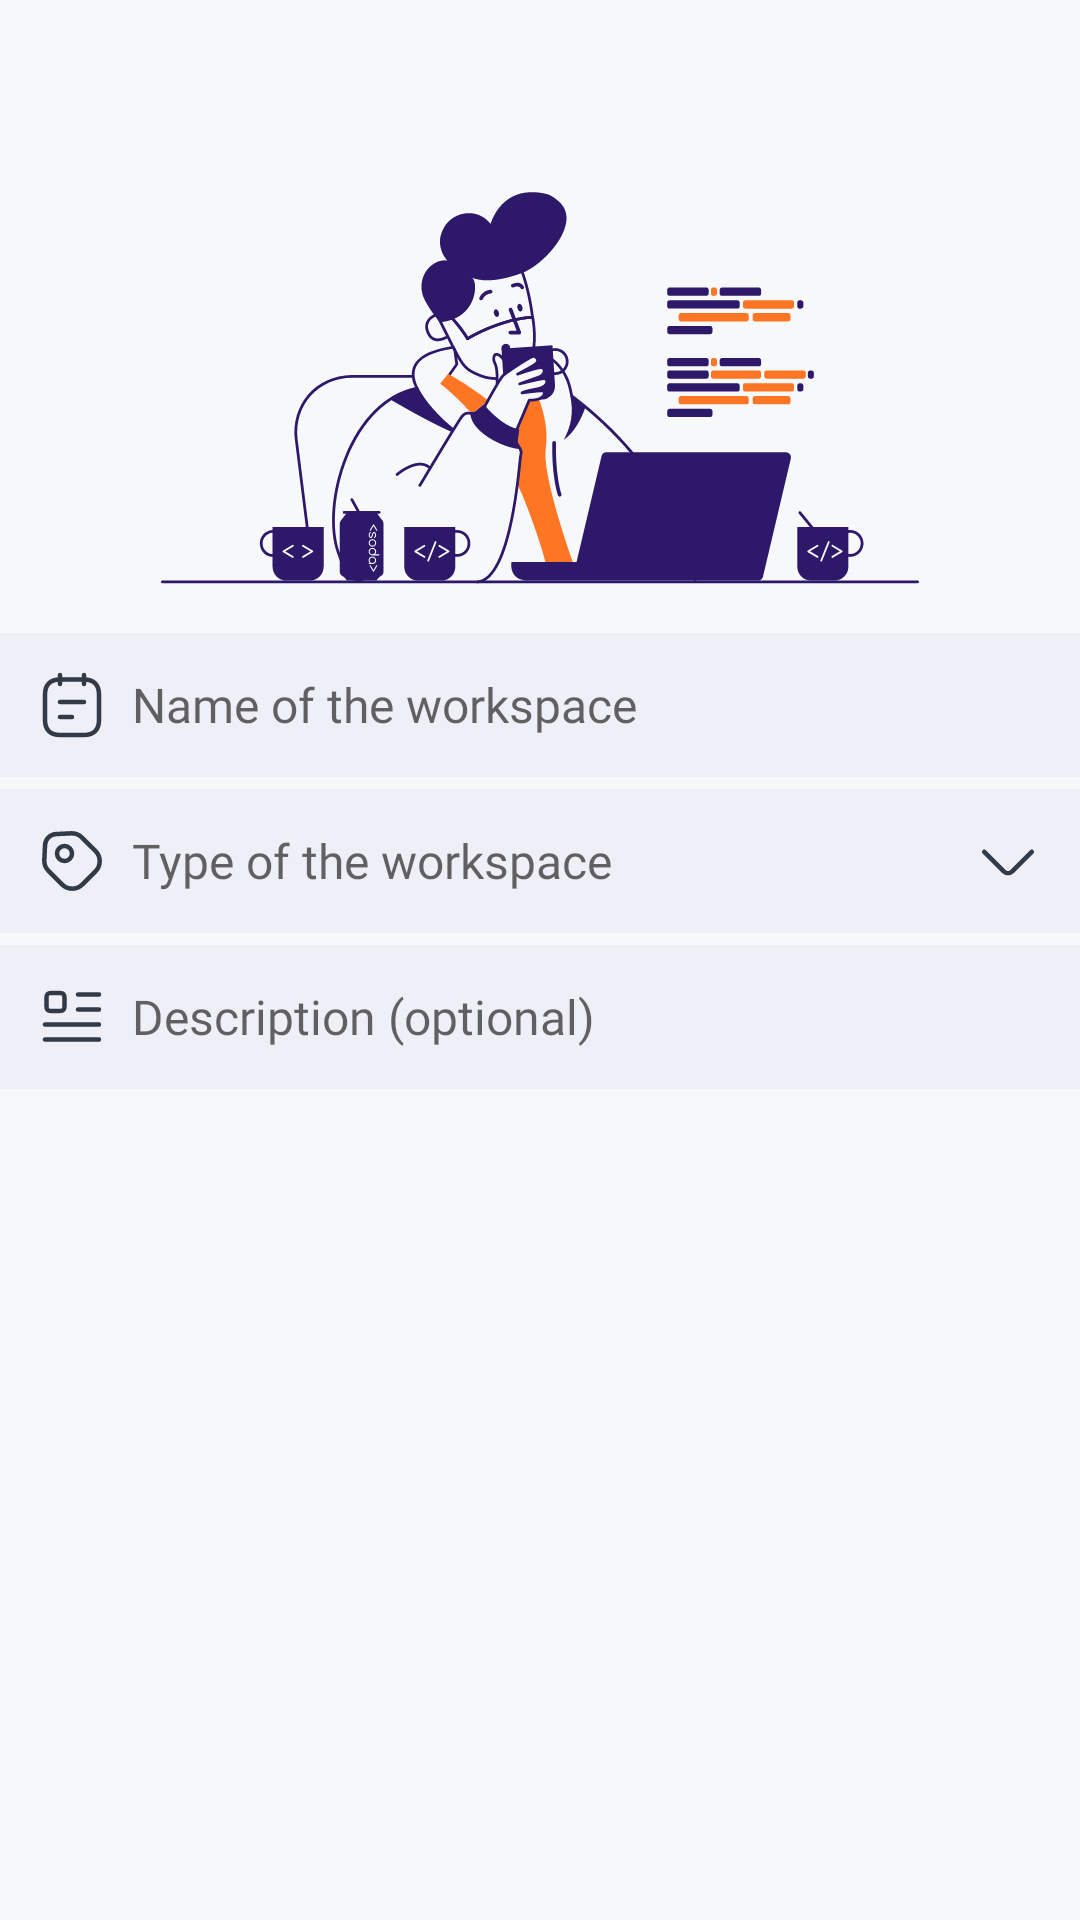

Where icons sit on this 1080w x 1920h app screen, as Rect(x1, y1, x2, y2):
arrow down: Rect(982, 849, 1034, 876)
